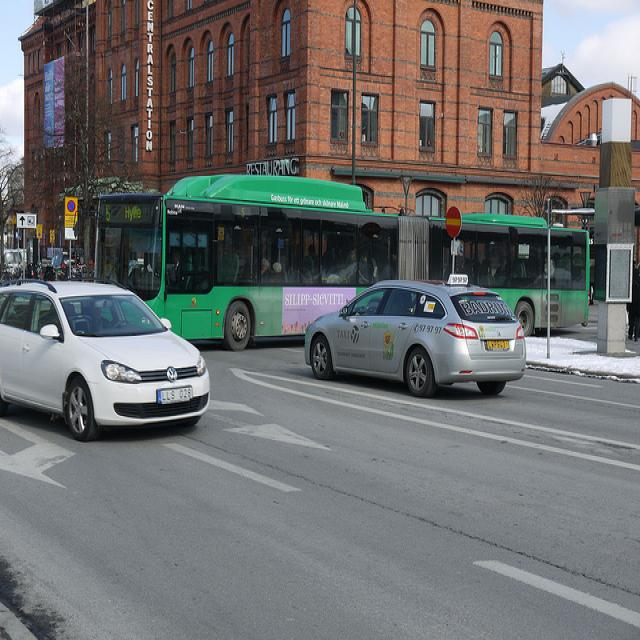AB: (86, 166, 593, 354)
